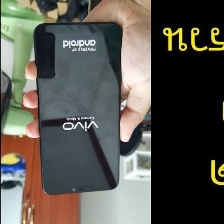phone: (30, 19, 127, 199)
